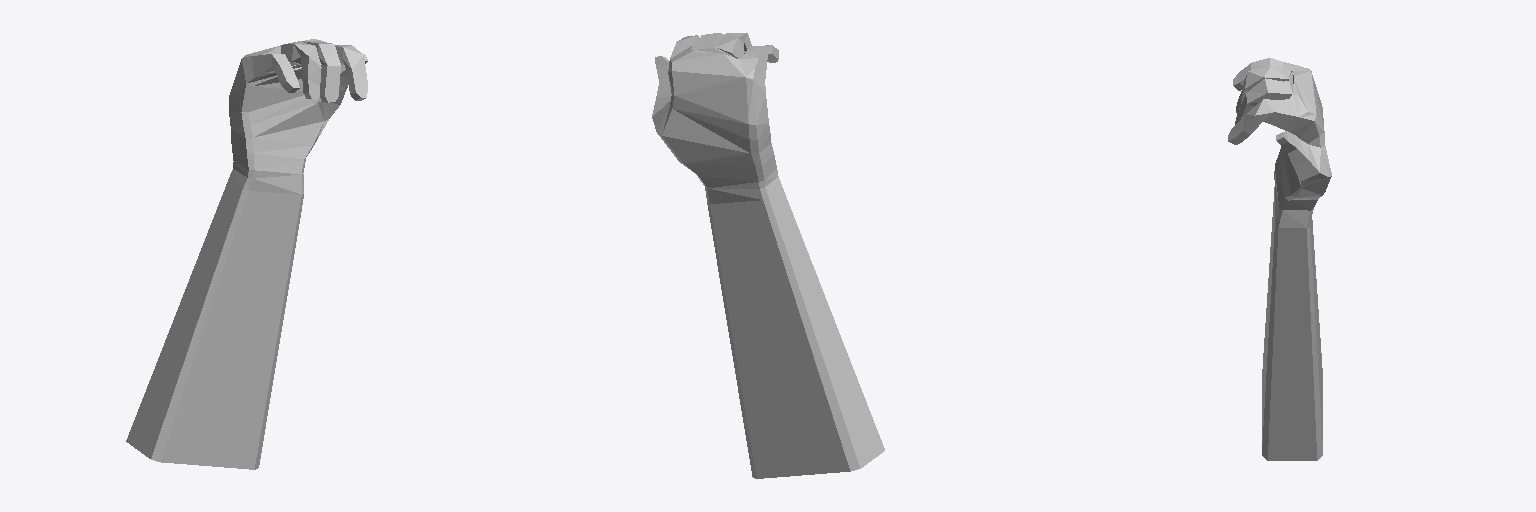
The model's file is hand_anim18.obj.
The picture shows the model from 3 angles: view 1: azimuth 30°, elevation 25°; view 2: azimuth 150°, elevation 25°; view 3: azimuth 270°, elevation 25°; orthographic projection.
Visible parts, largest first — view 1: Cube.001; view 2: Cube.001; view 3: Cube.001.
Part boxes in pixels (x1,y1,x2,y2): Cube.001: (126,39,367,469); Cube.001: (652,33,884,478); Cube.001: (1228,58,1331,460).
Bounding box in the file's own units: 1.63 × 2.89 × 0.66.